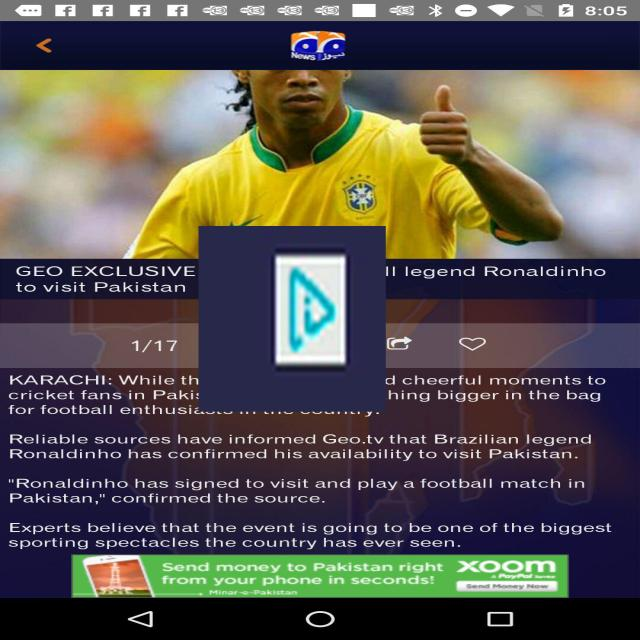sneaking: (198, 226, 386, 412)
